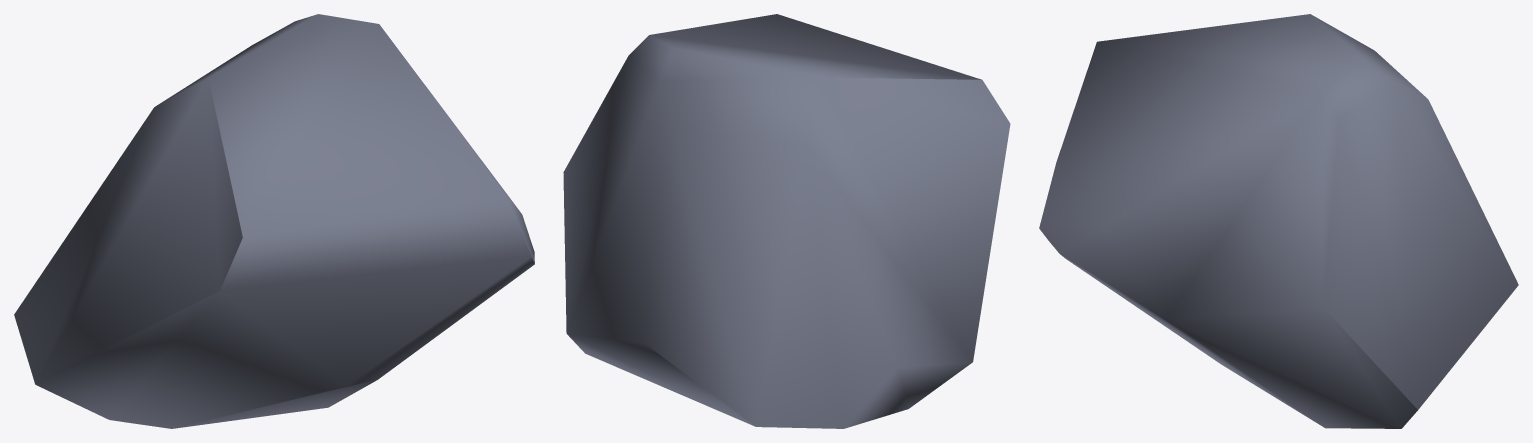
Rendered from Sm_Rocks5L.fbx.
The picture shows the model from 3 angles, left to right: view 1: azimuth 30°, elevation 25°; view 2: azimuth 150°, elevation 25°; view 3: azimuth 270°, elevation 25°; orthographic projection. The views are drawn at different scales.
Parts seen in each view (by area): view 1: Sm_Rocks5L; view 2: Sm_Rocks5L; view 3: Sm_Rocks5L.
Boxes of the visible parts, left/top/right/bottom form: Sm_Rocks5L: left=14, top=14, right=534, bottom=428; Sm_Rocks5L: left=563, top=14, right=1010, bottom=428; Sm_Rocks5L: left=1039, top=14, right=1518, bottom=428.
Bounding box in the file's own units: 178 × 129 × 168.
